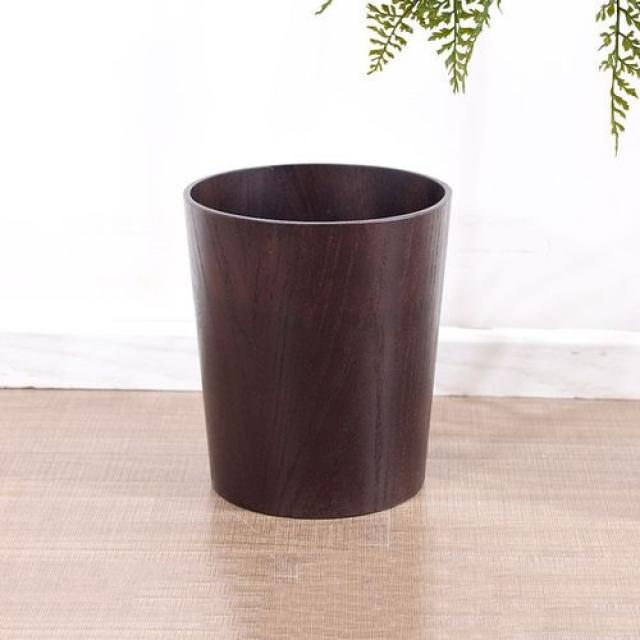dustbin: (178, 155, 458, 527)
